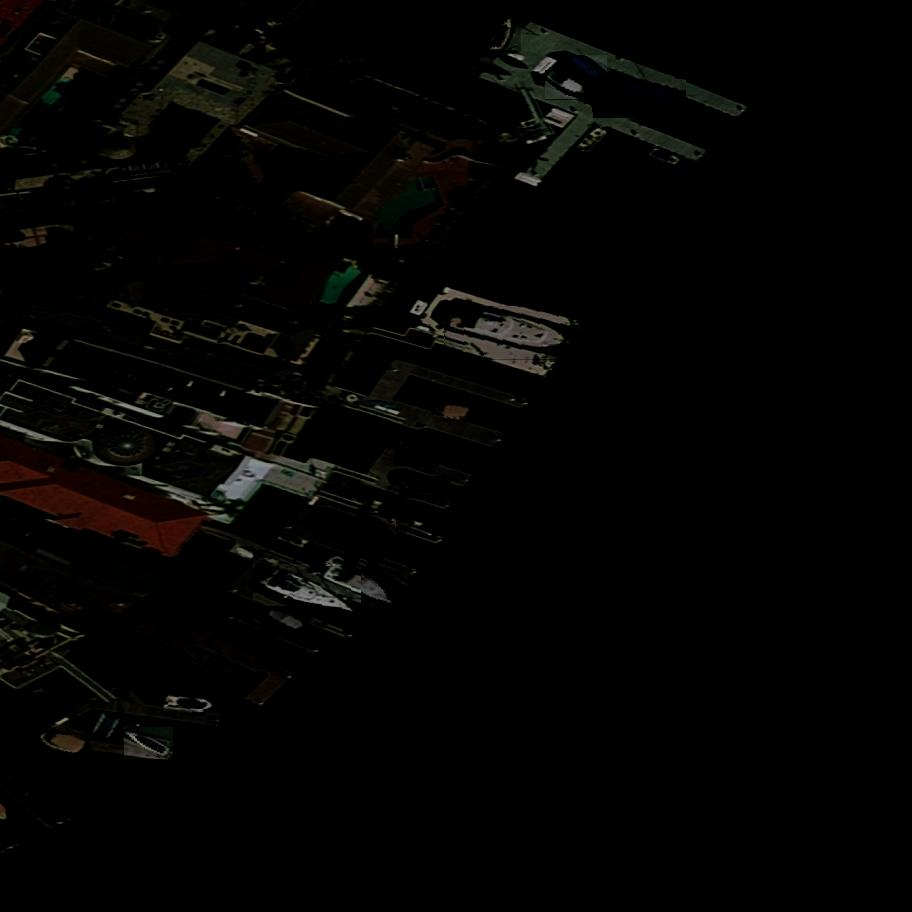ship: (444, 305, 580, 362), (253, 561, 362, 627), (321, 550, 403, 615), (615, 79, 686, 110), (123, 727, 174, 761), (264, 604, 312, 639), (394, 433, 439, 469), (487, 12, 521, 59), (36, 727, 89, 757), (545, 69, 591, 102), (354, 513, 397, 547), (89, 708, 125, 747), (568, 53, 608, 86), (399, 475, 451, 499), (593, 98, 646, 120), (164, 695, 218, 712), (432, 403, 473, 418)
